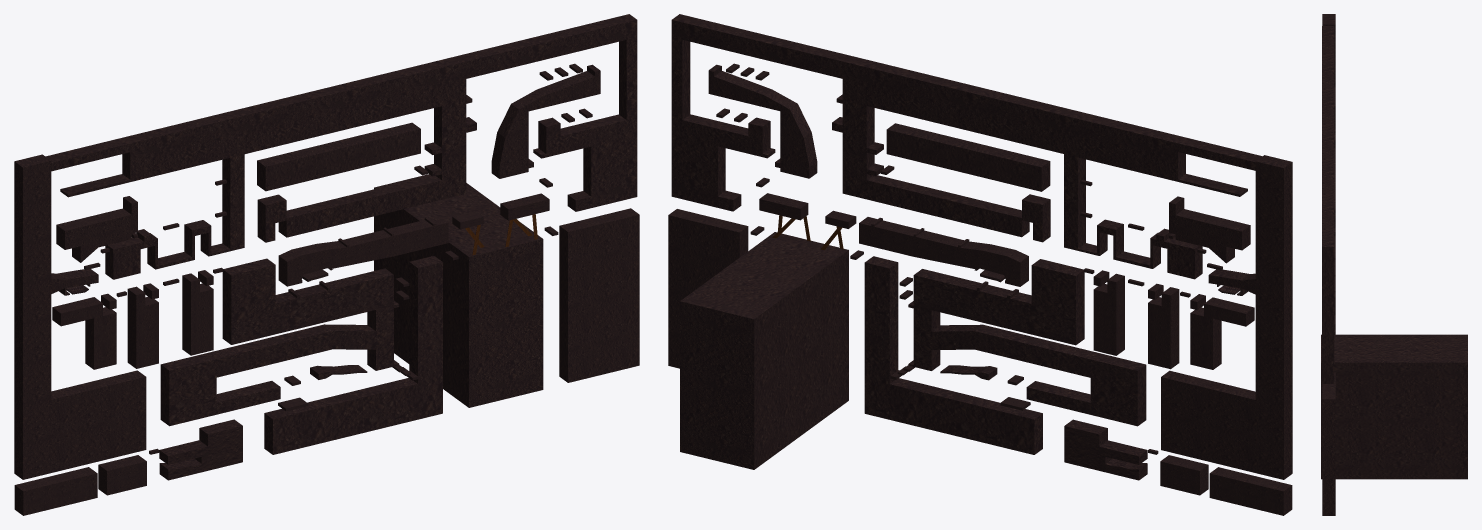
File: Lamplight_Level.FBX
3 views of the same model, side by side, from view 1: azimuth 30°, elevation 25°; view 2: azimuth 150°, elevation 25°; view 3: azimuth 270°, elevation 25° (orthographic). The views are drawn at different scales.
Parts seen in each view (by area): view 1: Box017, Box012, Box022, Level, Box013, Box004, Box034, Box014, Box018, Box003, Box023, Box029 (+5 smaller); view 2: Box017, Box012, Box022, Level, Box004, Box013, Box034, Box014, Box018, Box003, Box029, Box023 (+5 smaller); view 3: Box012, Box017, Box013, Box022.
Part boxes in pixels (x1=…): Box017: x1=45, y1=14, x2=637, y2=279; Box012: x1=374, y1=174, x2=543, y2=407; Box022: x1=14, y1=154, x2=146, y2=479; Level: x1=160, y1=258, x2=399, y2=426; Box013: x1=559, y1=208, x2=639, y2=382; Box004: x1=264, y1=256, x2=442, y2=454; Box034: x1=257, y1=122, x2=420, y2=191; Box014: x1=278, y1=216, x2=448, y2=286; Box018: x1=491, y1=64, x2=600, y2=178; Box003: x1=159, y1=419, x2=242, y2=480; Box023: x1=52, y1=293, x2=116, y2=369; Box029: x1=56, y1=196, x2=137, y2=262; Box017: x1=671, y1=14, x2=1262, y2=279; Box012: x1=680, y1=232, x2=848, y2=469; Box022: x1=1161, y1=155, x2=1292, y2=479; Level: x1=908, y1=259, x2=1146, y2=426; Box004: x1=864, y1=256, x2=1042, y2=454; Box013: x1=668, y1=209, x2=748, y2=368; Box034: x1=886, y1=123, x2=1050, y2=191; Box014: x1=859, y1=217, x2=1028, y2=286; Box018: x1=708, y1=64, x2=817, y2=178; Box003: x1=1064, y1=419, x2=1147, y2=480; Box029: x1=1169, y1=196, x2=1250, y2=263; Box023: x1=1190, y1=294, x2=1254, y2=369; Box012: x1=1321, y1=334, x2=1467, y2=479; Box017: x1=1322, y1=26, x2=1334, y2=383; Box013: x1=1322, y1=372, x2=1335, y2=515; Box022: x1=1322, y1=14, x2=1335, y2=148.
Size of the model in its own units: 2586 by 1396 by 690.
